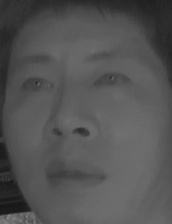eye: (91, 68, 133, 93), (18, 72, 56, 99)
mouth: (46, 153, 109, 197)
